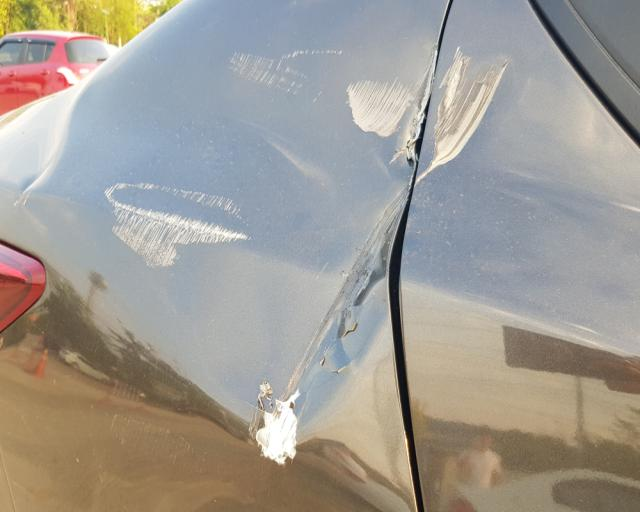dent: (20, 0, 451, 459)
scratch: (413, 43, 511, 186)
